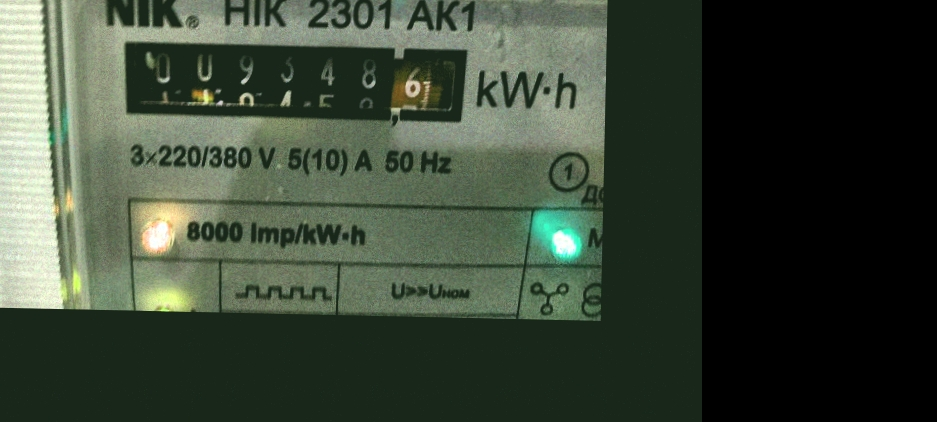0: (193, 48, 215, 84), (152, 49, 173, 84)
3: (275, 51, 298, 83)
4: (315, 51, 337, 89)
6: (402, 63, 425, 98)
8: (358, 54, 379, 89)
9: (236, 50, 255, 84)
screen: (99, 26, 486, 136)
